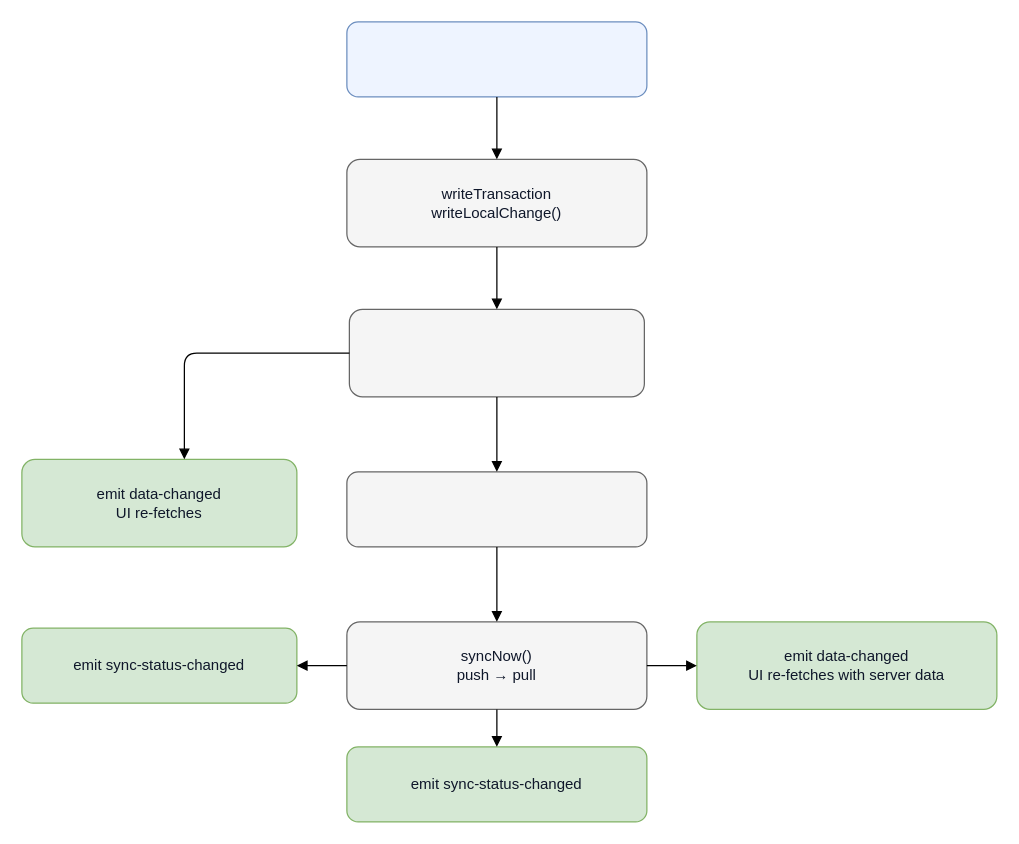
Image size: 1019x844. Some labels were removed from this diagram. The shapes that lost their labels are listed below. From the top down, each one's centre as x and y in pixels, then its label:
(496,59): User writes data
(496,352): run_sql insert row + insert outbox entry
(496,509): Notify polling loop
